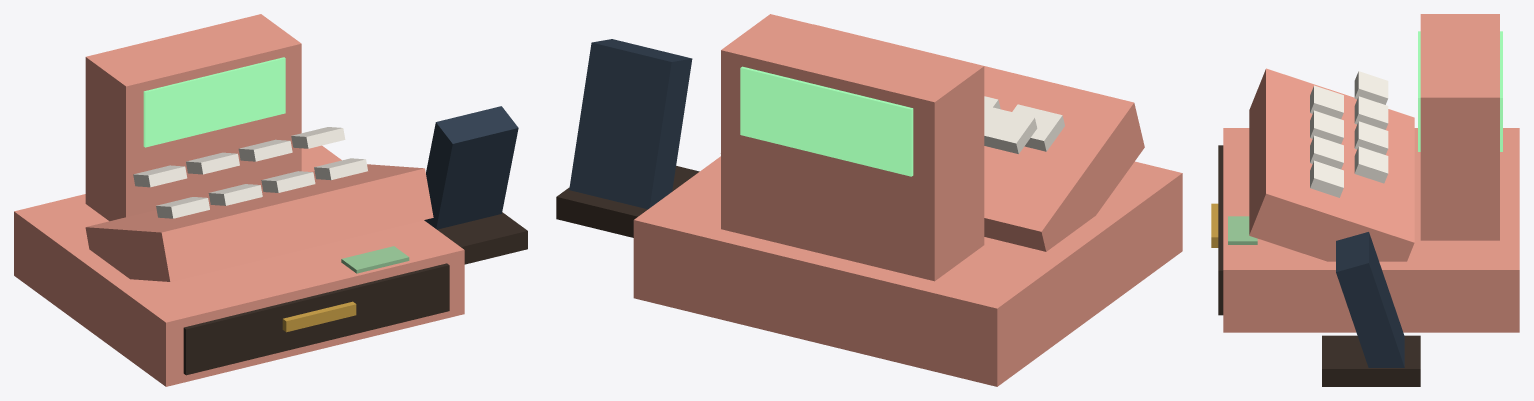
The model's file is CashRegister.glb.
3 renders of one model, left to right at view 1: azimuth 30°, elevation 25°; view 2: azimuth 150°, elevation 25°; view 3: azimuth 270°, elevation 25°, orthographic. The views are drawn at different scales.
Parts seen in each view (by area): view 1: CashRegister; view 2: CashRegister; view 3: CashRegister.
Part boxes in pixels (left/top/right/bottom): CashRegister: left=14, top=14, right=527, bottom=386; CashRegister: left=556, top=14, right=1182, bottom=386; CashRegister: left=1211, top=14, right=1519, bottom=386.
Size of the model in its own units: 0.47 by 0.23 by 0.312.
